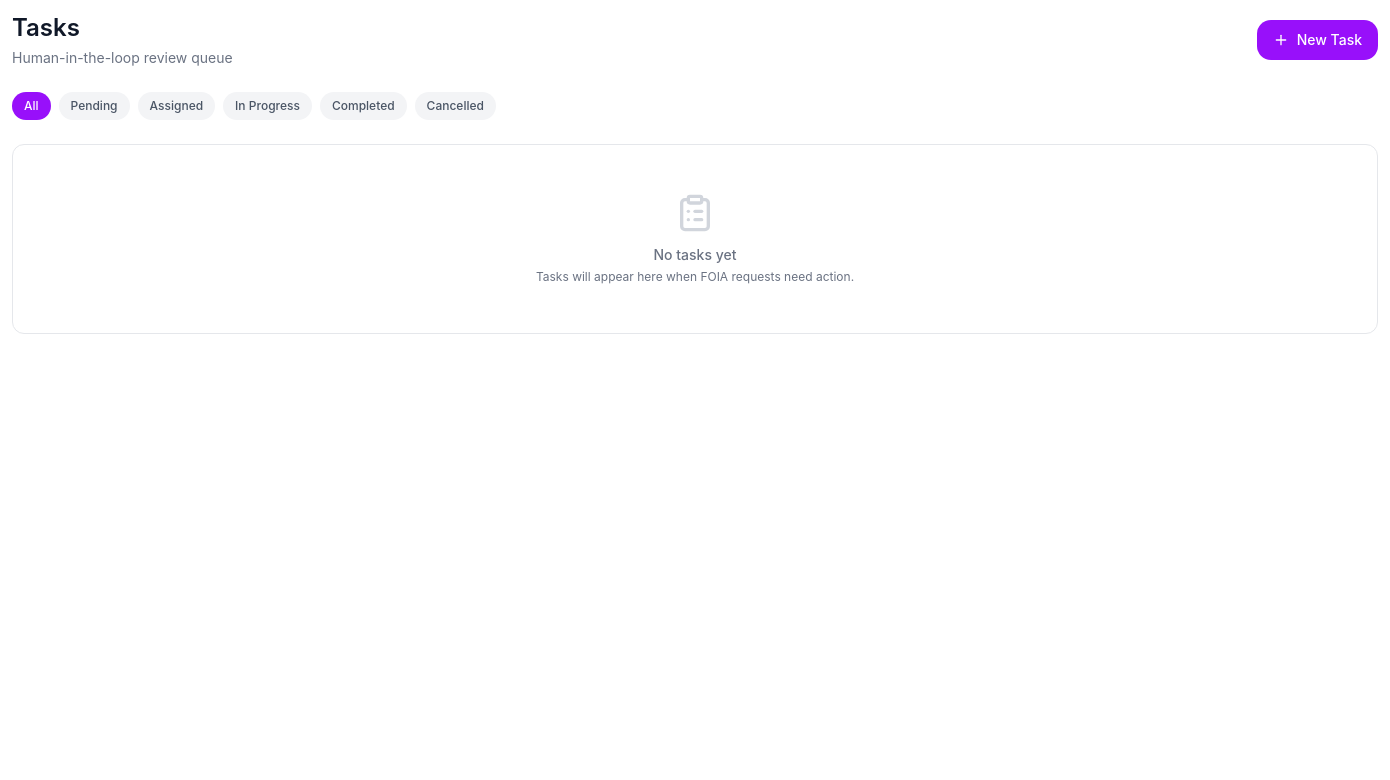
Test: TasksContent › shows spinner on Create Task button while creating
expect the text "No tasks yet" is shown: met, box [654,245,736,265]
// Open form
Click the button "New Task" at (1317, 40), box [1257,20,1378,60]
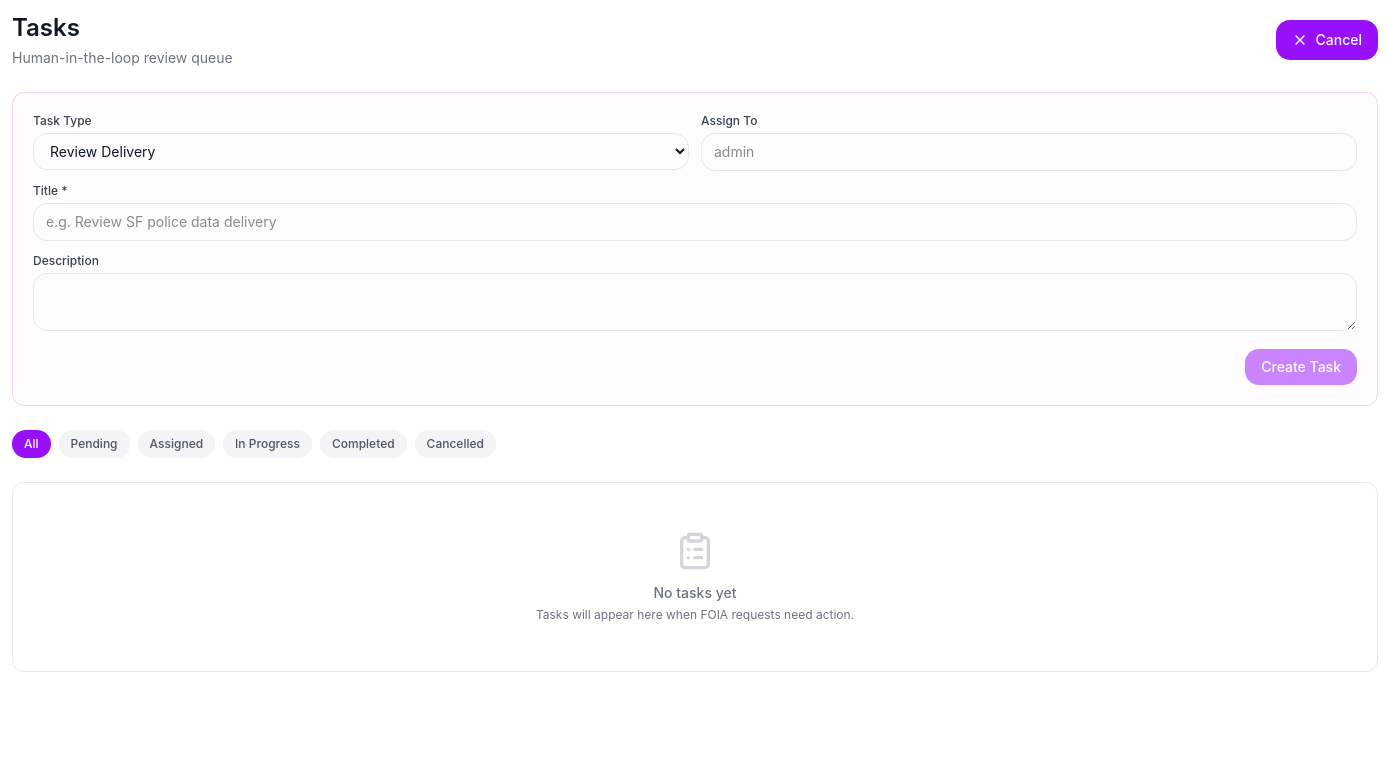
// Fill in title
Type "New review task" into the field with placeholder "e.g. Review SF police data delivery" at (695, 222), box [33,203,1357,241]
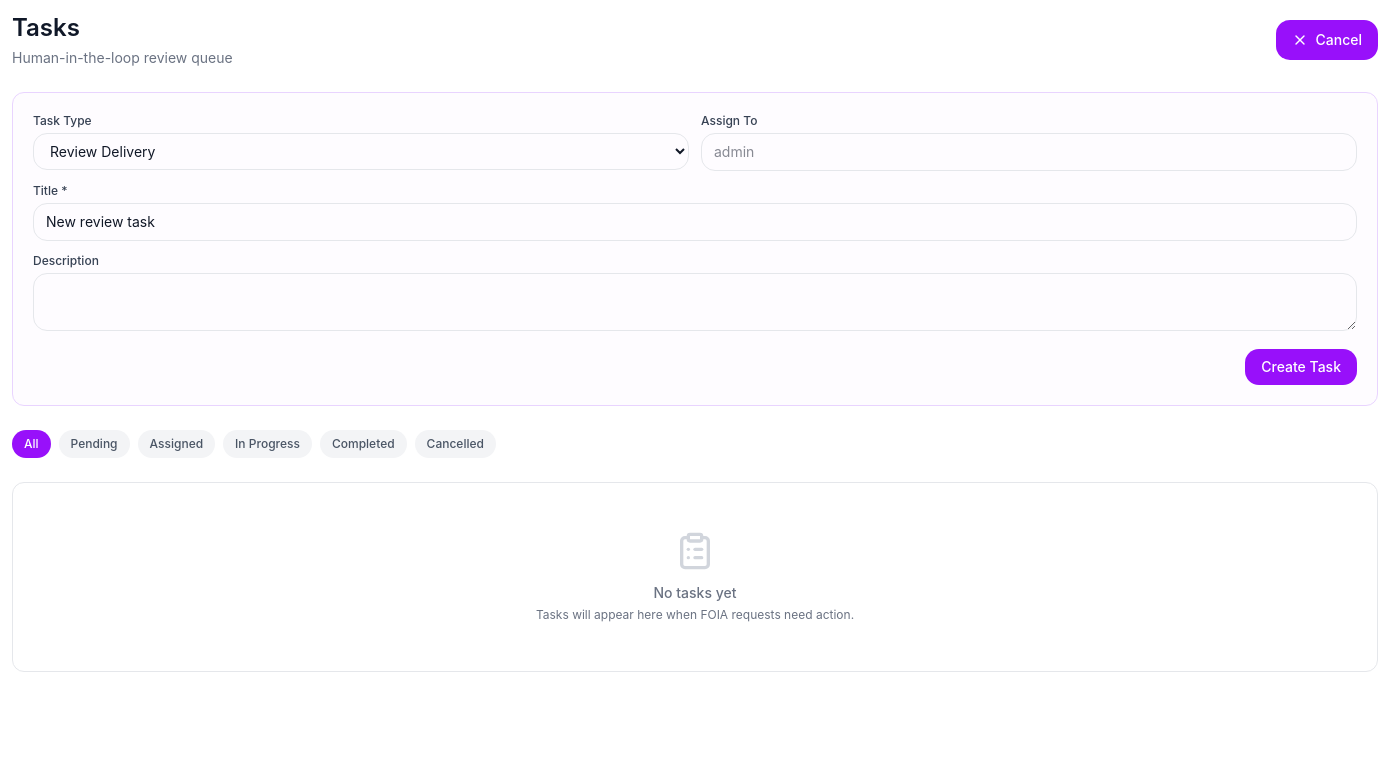
Click the button "Create Task" at (1301, 367), box [1245,349,1357,385]
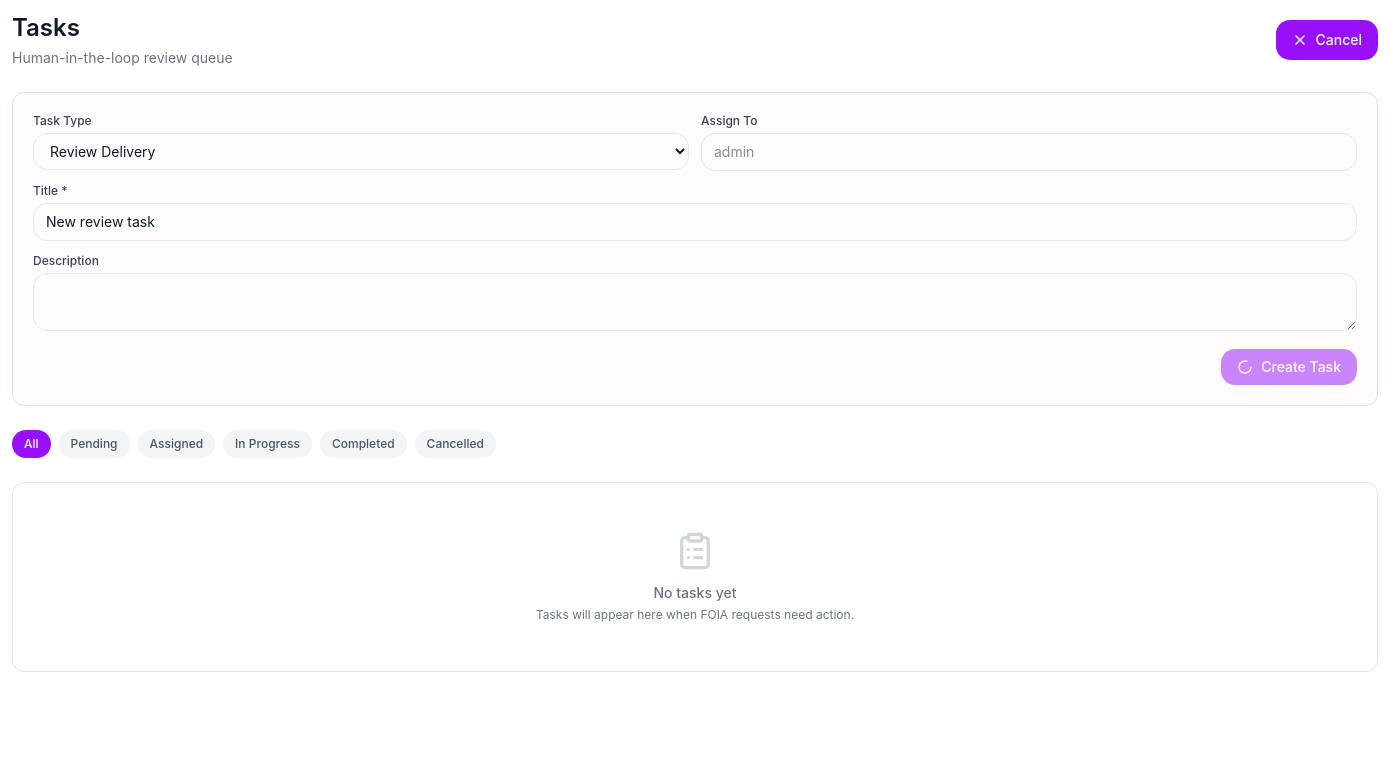
expect the icon with class "animate-spin" is shown: met, box [1237,359,1253,375]
